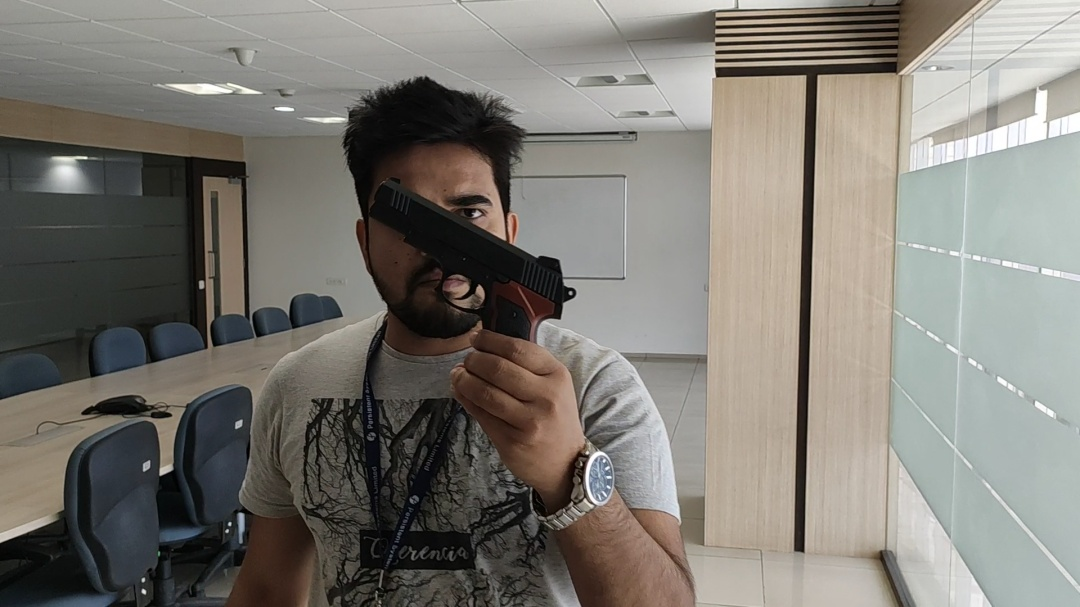gun: (369, 176, 574, 348)
